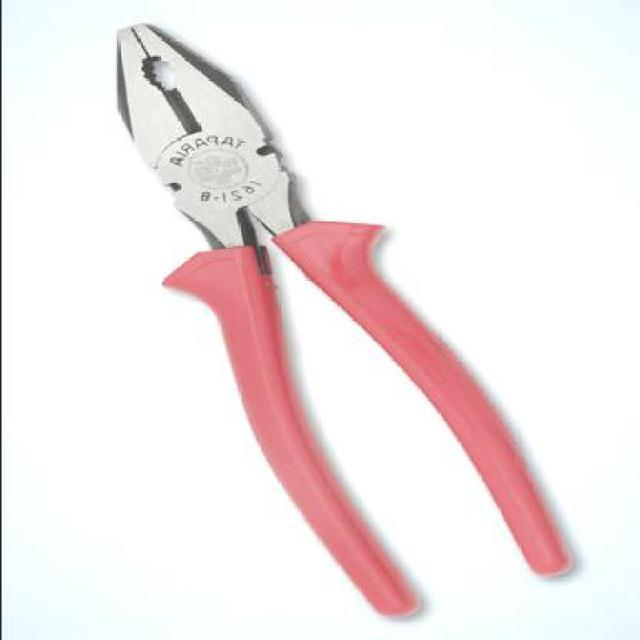pliers: (92, 27, 578, 621)
